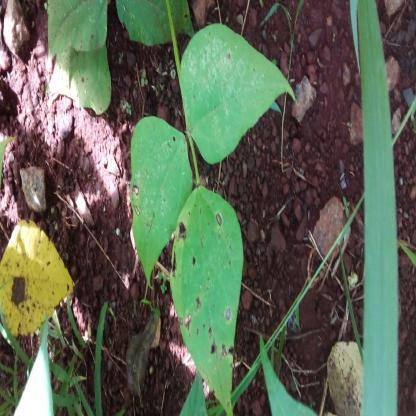Beans_Angular_LeafSpot: (167, 188, 243, 416), (188, 24, 280, 166), (131, 117, 185, 285), (0, 217, 71, 333)
